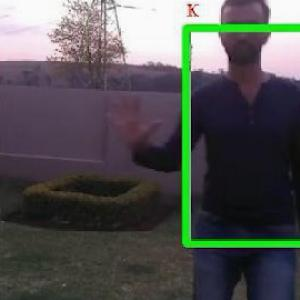follow_hand: (101, 87, 165, 149)
